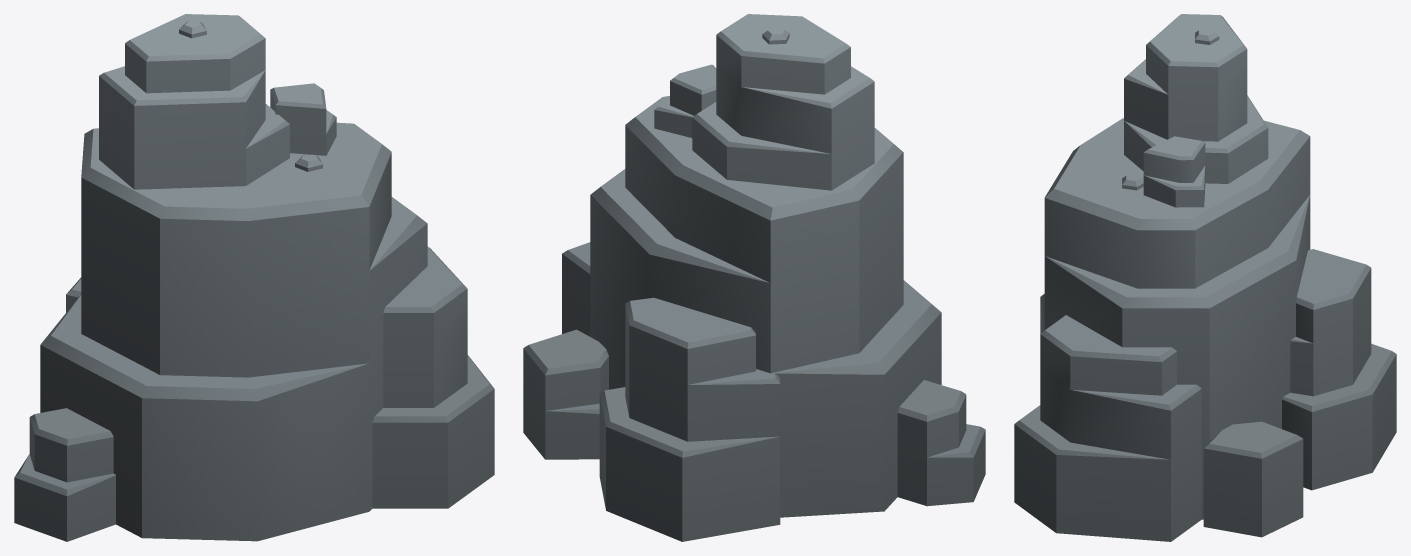
File: Rock_1_K_Color1.glb
The picture shows the model from 3 angles, left to right: view 1: azimuth 30°, elevation 25°; view 2: azimuth 150°, elevation 25°; view 3: azimuth 270°, elevation 25°; orthographic projection. The views are drawn at different scales.
Visible parts, largest first — view 1: Rock_1_K_Color1; view 2: Rock_1_K_Color1; view 3: Rock_1_K_Color1.
Boxes of the visible parts, <box> form: Rock_1_K_Color1: <box>14,14,494,541</box>; Rock_1_K_Color1: <box>523,14,985,541</box>; Rock_1_K_Color1: <box>1014,14,1396,541</box>.
Bounding box in the file's own units: 3.69 × 3.65 × 3.13.
Materials: 1 (1 with a texture image).
